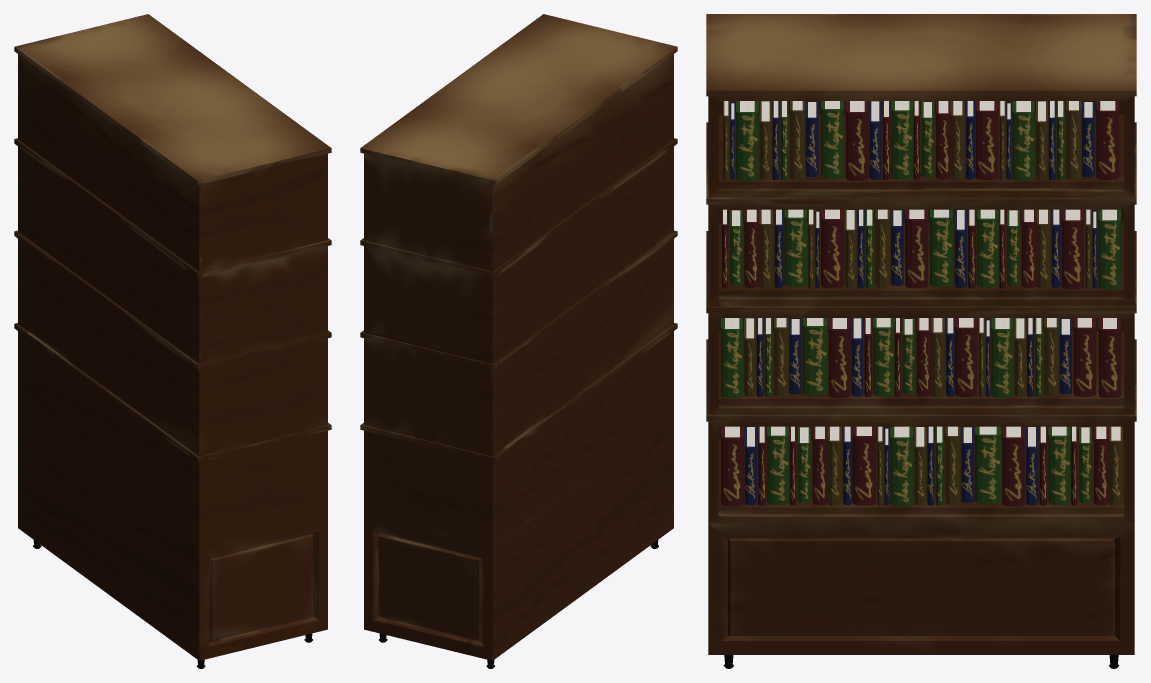
The model's file is Library.fbx.
The picture shows the model from 3 angles, left to right: view 1: azimuth 30°, elevation 25°; view 2: azimuth 150°, elevation 25°; view 3: azimuth 270°, elevation 25°; orthographic projection. The views are drawn at different scales.
Visible parts, largest first — view 1: Cube.003; view 2: Cube.003; view 3: Cube.003, Books.
Boxes of the visible parts, x1,y1,x2,y2 form: Cube.003: [14, 14, 331, 668]; Cube.003: [360, 14, 677, 668]; Cube.003: [706, 14, 1136, 668]; Books: [721, 101, 1122, 506].
Bounding box in the file's own units: 116 × 410 × 274.
